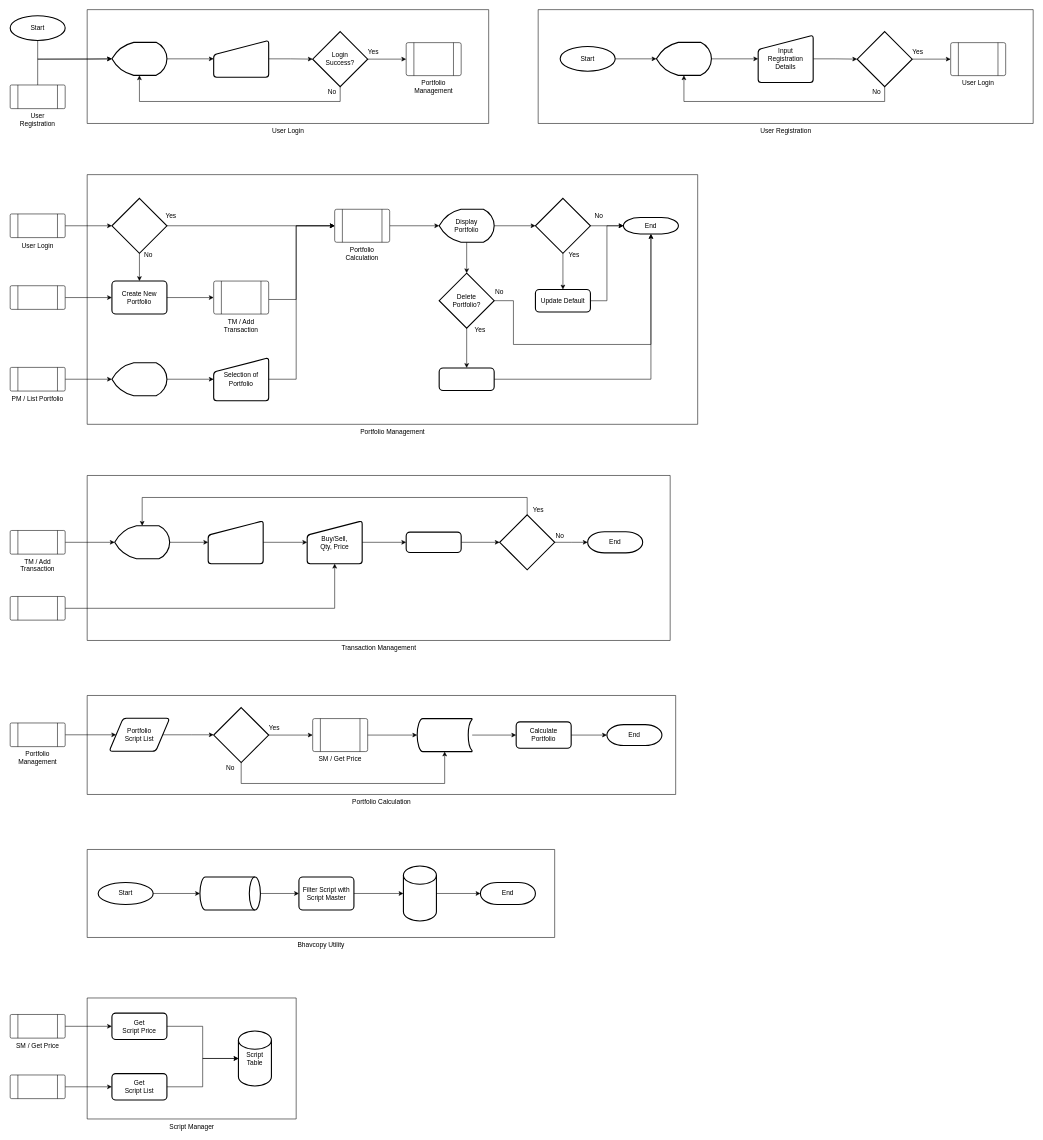
The diagram is 1043 pixels wide and 1140 high, and some of its shapes have lost their labels. The centre of each missing label's shape, as x and y in pixels:
Add Another?: (527,542)
Add Prices: (420,893)
BSE/NSE Bhavcopy: (230,893)
Cache: (444,735)
Cache expired?: (241,735)
Delete Portfolio: (466,379)
Display Login Page: (139,59)
Display Portfolio List: (139,379)
Display Registration Page: (684,59)
Display Script List: (142,542)
Has Default Portfolio: (139,225)
Input Login Cred: (241,59)
Make Default?: (563,225)
PM / New Portfolio: (37,297)
Registration Success?: (884,59)
Selection of Script: (235,542)
SM / Get All Scripts: (37,1086)
TM / Update Transaction: (37,608)
Update Data: (433,542)
